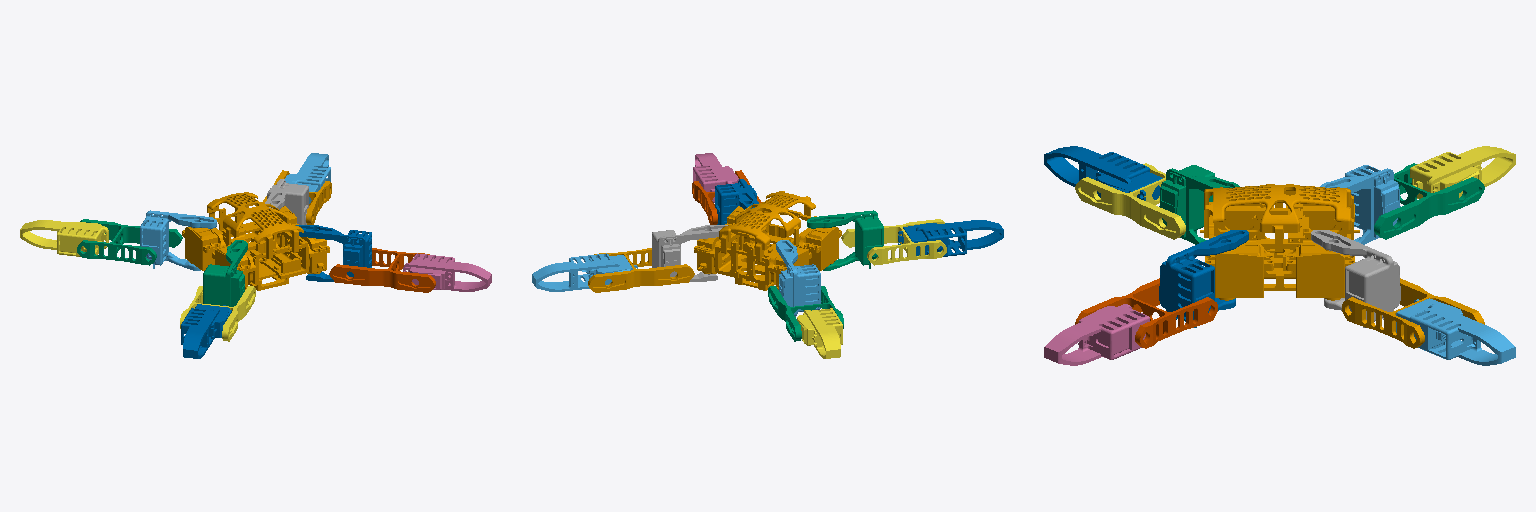
URDF robot description (facehugger):
<?xml version="1.0" ?>
<robot name="facehugger">

  <!-- BASE LINK -->
  <link name="base_link">
    <inertial>
      <origin xyz="0.000319 0.002511 0.017386" rpy="0 0 0"/>
      <mass value="1.170749"/>
      <inertia ixx="0.001382809" ixy="2.0348e-05" ixz="-3.012e-06" iyy="0.000860571" iyz="-2.5609e-05" izz="0.00122863"/>
    </inertial>
    <visual>
      <origin xyz="0 0 0" rpy="0.000000 0.000000 0.000000"/>
      <geometry>
        <mesh filename="exported_meshes/QuadrupedBody.stl" scale="0.001 0.001 0.001"/>
      </geometry>
    </visual>
    <visual>
      <origin xyz="-0.034000 0.046000 0.026000" rpy="0.000000 0.000000 0.000000"/>
      <geometry>
        <mesh filename="exported_meshes/leg_mount_L.stl" scale="0.001 0.001 0.001"/>
      </geometry>
    </visual>
    <visual>
      <origin xyz="-0.050401 0.043222 0.036844" rpy="0.000000 0.000000 0.000000"/>
      <geometry>
        <mesh filename="exported_meshes/servo.stl" scale="0.001 0.001 0.001"/>
      </geometry>
    </visual>
    <visual>
      <origin xyz="0.034000 -0.046000 0.026000" rpy="0.000000 0.000000 3.141593"/>
      <geometry>
        <mesh filename="exported_meshes/leg_mount_L.stl" scale="0.001 0.001 0.001"/>
      </geometry>
    </visual>
    <visual>
      <origin xyz="0.050401 -0.043222 0.036844" rpy="0.000000 0.000000 3.141593"/>
      <geometry>
        <mesh filename="exported_meshes/servo.stl" scale="0.001 0.001 0.001"/>
      </geometry>
    </visual>
    <visual>
      <origin xyz="0.034000 0.046000 0.026000" rpy="0.000000 0.000000 0.000000"/>
      <geometry>
        <mesh filename="exported_meshes/leg_mount_R.stl" scale="0.001 0.001 0.001"/>
      </geometry>
    </visual>
    <visual>
      <origin xyz="0.050401 0.043222 0.036844" rpy="0.000000 0.000000 0.000000"/>
      <geometry>
        <mesh filename="exported_meshes/servo.stl" scale="0.001 0.001 0.001"/>
      </geometry>
    </visual>
    <visual>
      <origin xyz="-0.034000 -0.046000 0.026000" rpy="0.000000 0.000000 3.141593"/>
      <geometry>
        <mesh filename="exported_meshes/leg_mount_R.stl" scale="0.001 0.001 0.001"/>
      </geometry>
    </visual>
    <visual>
      <origin xyz="-0.050401 -0.043222 0.036844" rpy="0.000000 0.000000 3.141593"/>
      <geometry>
        <mesh filename="exported_meshes/servo.stl" scale="0.001 0.001 0.001"/>
      </geometry>
    </visual>
    <collision>
      <origin xyz="0 0 0" rpy="0.000000 0.000000 0.000000"/>
      <geometry>
        <mesh filename="exported_meshes/QuadrupedBody.stl" scale="0.001 0.001 0.001"/>
      </geometry>
    </collision>
  </link>

  <!-- LEG ASSEMBLY METADATA (mm, leg-assembly-local frame)
         BodyToLink1Point : 0.000 11.970 41.844
         Link1ToLink2Point: -46.920 34.365 10.246
         Link2ToLink3Point: -121.620 34.570 10.246
         FootTip (Link3TipPoint construction point, in link3 frame): -78.220 -20.510 0.000 -->

  <!-- LEG: FL  (side=L, shoulder_rest=-45.0°, limits=[-52.0°, +90.0°]) -->
  <joint name="fl_link1_joint" type="revolute">
    <parent link="base_link"/>
    <child link="fl_link1"/>
    <origin xyz="-0.050401 0.043222 0.036844" rpy="0 0 -0.785398"/>
    <axis xyz="0.0 0.0 1.0"/>
    <limit lower="-0.907571" upper="1.570796" effort="2.94" velocity="5.0"/>
  </joint>
  <joint name="fl_link2_joint" type="revolute">
    <parent link="fl_link1"/>
    <child link="fl_link2"/>
    <origin xyz="-0.046920 0.022395 -0.031598" rpy="0 0 0.0"/>
    <axis xyz="0.0 1.0 0.0"/>
    <limit lower="-1.308997" upper="1.308997" effort="2.94" velocity="5.0"/>
  </joint>
  <joint name="fl_link3_joint" type="revolute">
    <parent link="fl_link2"/>
    <child link="fl_link3"/>
    <origin xyz="-0.074700 0.000205 0.000000" rpy="0 0 0.0"/>
    <axis xyz="0.0 1.0 0.0"/>
    <limit lower="-1.570796" upper="1.570796" effort="2.94" velocity="5.0"/>
  </joint>
  <link name="fl_link1">
    <inertial>
      <origin xyz="0.042705 -0.015218 -0.030496" rpy="0 0 0"/>
      <mass value="0.192968"/>
      <inertia ixx="0.00045217555780546" ixy="-5.128594543883256e-05" ixz="-0.00016381619004803114" iyy="0.0004139746460299581" iyz="-9.917950919420754e-05" izz="0.0003566396622446996"/>
    </inertial>
    <visual>
      <origin xyz="0 0 0" rpy="0.000000 0.000000 0.000000"/>
      <geometry>
        <mesh filename="exported_meshes/leg_shoulder_L.stl" scale="0.001 0.001 0.001"/>
      </geometry>
    </visual>
    <visual>
      <origin xyz="-0.046920 0.022394 -0.031598" rpy="-1.570796 0.000000 0.000000"/>
      <geometry>
        <mesh filename="exported_meshes/servo.stl" scale="0.001 0.001 0.001"/>
      </geometry>
    </visual>
    <collision>
      <origin xyz="-0.023460 0.011198 -0.015799" rpy="0.000000 0.546109 2.696268"/>
      <geometry>
        <box size="0.060840 0.015000 0.015000"/>
      </geometry>
    </collision>
  </link>
  <link name="fl_link2">
    <inertial>
      <origin xyz="0.117869 0.018736 0.005004" rpy="0 0 0"/>
      <mass value="0.149366"/>
      <inertia ixx="0.001224445" ixy="-0.000259539" ixz="-3.1438e-05" iyy="0.000166081" iyz="-0.000129141" izz="0.00134872"/>
    </inertial>
    <visual>
      <origin xyz="0 0 0" rpy="0.000000 0.000000 0.000000"/>
      <geometry>
        <mesh filename="exported_meshes/leg_upper.stl" scale="0.001 0.001 0.001"/>
      </geometry>
    </visual>
    <collision>
      <origin xyz="-0.037350 0.000103 0.000000" rpy="0.000000 -0.000000 3.138848"/>
      <geometry>
        <box size="0.074700 0.015000 0.015000"/>
      </geometry>
    </collision>
  </link>
  <link name="fl_link3">
    <inertial>
      <origin xyz="0.177798 0.035157 0.001715" rpy="0 0 0"/>
      <mass value="0.187150"/>
      <inertia ixx="0.0038416892085335825" ixy="-0.00022181937533894737" ixz="-1.4629438627849318e-05" iyy="5.3236720567592854e-05" iyz="-0.0002559532641094737" izz="0.0038352540580719047"/>
    </inertial>
    <visual>
      <origin xyz="0 0 0" rpy="0.000000 0.000000 0.000000"/>
      <geometry>
        <mesh filename="exported_meshes/leg_lower.stl" scale="0.001 0.001 0.001"/>
      </geometry>
    </visual>
    <visual>
      <origin xyz="0.000000 -0.000206 0.000000" rpy="0.000000 -1.570796 -1.570796"/>
      <geometry>
        <mesh filename="exported_meshes/servo.stl" scale="0.001 0.001 0.001"/>
      </geometry>
    </visual>
    <collision>
      <origin xyz="-0.078220 -0.020510 0.000000" rpy="1.570800 0.000000 0.000000"/>
      <geometry>
        <capsule radius="0.005" length="0.005"/>
      </geometry>
    </collision>
  </link>

  <!-- LEG: BR  (side=L, shoulder_rest=+135.0°, limits=[-90.0°, +52.0°]) -->
  <joint name="br_link1_joint" type="revolute">
    <parent link="base_link"/>
    <child link="br_link1"/>
    <origin xyz="0.050401 -0.043222 0.036844" rpy="0 0 2.356194"/>
    <axis xyz="0.0 0.0 1.0"/>
    <limit lower="-1.570796" upper="0.907571" effort="2.94" velocity="5.0"/>
  </joint>
  <joint name="br_link2_joint" type="revolute">
    <parent link="br_link1"/>
    <child link="br_link2"/>
    <origin xyz="-0.046920 0.022395 -0.031598" rpy="0 0 0.0"/>
    <axis xyz="0.0 1.0 0.0"/>
    <limit lower="-1.308997" upper="1.308997" effort="2.94" velocity="5.0"/>
  </joint>
  <joint name="br_link3_joint" type="revolute">
    <parent link="br_link2"/>
    <child link="br_link3"/>
    <origin xyz="-0.074700 0.000205 0.000000" rpy="0 0 0.0"/>
    <axis xyz="0.0 1.0 0.0"/>
    <limit lower="-1.570796" upper="1.570796" effort="2.94" velocity="5.0"/>
  </joint>
  <link name="br_link1">
    <inertial>
      <origin xyz="0.042705 -0.015218 -0.030496" rpy="0 0 0"/>
      <mass value="0.192968"/>
      <inertia ixx="0.00045217555780546" ixy="-5.128594543883256e-05" ixz="-0.00016381619004803114" iyy="0.0004139746460299581" iyz="-9.917950919420754e-05" izz="0.0003566396622446996"/>
    </inertial>
    <visual>
      <origin xyz="0 0 0" rpy="0.000000 0.000000 0.000000"/>
      <geometry>
        <mesh filename="exported_meshes/leg_shoulder_L.stl" scale="0.001 0.001 0.001"/>
      </geometry>
    </visual>
    <visual>
      <origin xyz="-0.046920 0.022394 -0.031598" rpy="-1.570796 0.000000 0.000000"/>
      <geometry>
        <mesh filename="exported_meshes/servo.stl" scale="0.001 0.001 0.001"/>
      </geometry>
    </visual>
    <collision>
      <origin xyz="-0.023460 0.011198 -0.015799" rpy="0.000000 0.546109 2.696268"/>
      <geometry>
        <box size="0.060840 0.015000 0.015000"/>
      </geometry>
    </collision>
  </link>
  <link name="br_link2">
    <inertial>
      <origin xyz="0.117869 0.018736 0.005004" rpy="0 0 0"/>
      <mass value="0.149366"/>
      <inertia ixx="0.001224445" ixy="-0.000259539" ixz="-3.1438e-05" iyy="0.000166081" iyz="-0.000129141" izz="0.00134872"/>
    </inertial>
    <visual>
      <origin xyz="0 0 0" rpy="0.000000 0.000000 0.000000"/>
      <geometry>
        <mesh filename="exported_meshes/leg_upper.stl" scale="0.001 0.001 0.001"/>
      </geometry>
    </visual>
    <collision>
      <origin xyz="-0.037350 0.000103 0.000000" rpy="0.000000 -0.000000 3.138848"/>
      <geometry>
        <box size="0.074700 0.015000 0.015000"/>
      </geometry>
    </collision>
  </link>
  <link name="br_link3">
    <inertial>
      <origin xyz="0.177798 0.035157 0.001715" rpy="0 0 0"/>
      <mass value="0.187150"/>
      <inertia ixx="0.0038416892085335825" ixy="-0.00022181937533894737" ixz="-1.4629438627849318e-05" iyy="5.3236720567592854e-05" iyz="-0.0002559532641094737" izz="0.0038352540580719047"/>
    </inertial>
    <visual>
      <origin xyz="0 0 0" rpy="0.000000 0.000000 0.000000"/>
      <geometry>
        <mesh filename="exported_meshes/leg_lower.stl" scale="0.001 0.001 0.001"/>
      </geometry>
    </visual>
    <visual>
      <origin xyz="0.000000 -0.000206 0.000000" rpy="0.000000 -1.570796 -1.570796"/>
      <geometry>
        <mesh filename="exported_meshes/servo.stl" scale="0.001 0.001 0.001"/>
      </geometry>
    </visual>
    <collision>
      <origin xyz="-0.078220 -0.020510 0.000000" rpy="1.570800 0.000000 0.000000"/>
      <geometry>
        <capsule radius="0.005" length="0.005"/>
      </geometry>
    </collision>
  </link>

  <!-- LEG: FR  (side=R, shoulder_rest=+45.0°, limits=[-90.0°, +52.0°]) -->
  <joint name="fr_link1_joint" type="revolute">
    <parent link="base_link"/>
    <child link="fr_link1"/>
    <origin xyz="0.050401 0.043222 0.036844" rpy="0 0 0.785398"/>
    <axis xyz="0.0 0.0 1.0"/>
    <limit lower="-1.570796" upper="0.907571" effort="2.94" velocity="5.0"/>
  </joint>
  <joint name="fr_link2_joint" type="revolute">
    <parent link="fr_link1"/>
    <child link="fr_link2"/>
    <origin xyz="0.046920 0.022395 -0.031598" rpy="0 0 0.0"/>
    <axis xyz="0.0 -1.0 0.0"/>
    <limit lower="-1.308997" upper="1.308997" effort="2.94" velocity="5.0"/>
  </joint>
  <joint name="fr_link3_joint" type="revolute">
    <parent link="fr_link2"/>
    <child link="fr_link3"/>
    <origin xyz="0.074700 0.000205 0.000000" rpy="0 0 0.0"/>
    <axis xyz="0.0 -1.0 0.0"/>
    <limit lower="-1.570796" upper="1.570796" effort="2.94" velocity="5.0"/>
  </joint>
  <link name="fr_link1">
    <inertial>
      <origin xyz="0.070197 -0.059946 -0.028938" rpy="0 0 0"/>
      <mass value="0.209876"/>
      <inertia ixx="0.0006375510867580152" ixy="-5.659290248604624e-05" ixz="5.557935734465646e-05" iyy="0.00036255282340824104" iyz="0.00023085377312549276" izz="0.0004497437490968804"/>
    </inertial>
    <visual>
      <origin xyz="0 0 0" rpy="0.000000 0.000000 0.000000"/>
      <geometry>
        <mesh filename="exported_meshes/leg_shoulder_R.stl" scale="0.001 0.001 0.001"/>
      </geometry>
    </visual>
    <visual>
      <origin xyz="0.046920 0.022394 -0.031598" rpy="-1.570796 0.000000 0.000000"/>
      <geometry>
        <mesh filename="exported_meshes/servo.stl" scale="0.001 0.001 0.001"/>
      </geometry>
    </visual>
    <collision>
      <origin xyz="0.023460 0.011198 -0.015799" rpy="0.000000 0.546109 0.445325"/>
      <geometry>
        <box size="0.060840 0.015000 0.015000"/>
      </geometry>
    </collision>
  </link>
  <link name="fr_link2">
    <inertial>
      <origin xyz="-0.117869 0.018736 -0.005004" rpy="0 0 0"/>
      <mass value="0.149366"/>
      <inertia ixx="0.001224445" ixy="-0.000259539" ixz="-3.1438e-05" iyy="0.000166081" iyz="-0.000129141" izz="0.00134872"/>
    </inertial>
    <visual>
      <origin xyz="0 0 0" rpy="0.000000 3.141593 0.000000"/>
      <geometry>
        <mesh filename="exported_meshes/leg_upper.stl" scale="0.001 0.001 0.001"/>
      </geometry>
    </visual>
    <collision>
      <origin xyz="0.037350 0.000103 0.000000" rpy="0.000000 -0.000000 0.002744"/>
      <geometry>
        <box size="0.074700 0.015000 0.015000"/>
      </geometry>
    </collision>
  </link>
  <link name="fr_link3">
    <inertial>
      <origin xyz="-0.177798 0.035157 -0.001715" rpy="0 0 0"/>
      <mass value="0.187150"/>
      <inertia ixx="0.0038416892085335825" ixy="-0.00022181937533894737" ixz="-1.4629438627849318e-05" iyy="5.3236720567592854e-05" iyz="-0.0002559532641094737" izz="0.0038352540580719047"/>
    </inertial>
    <visual>
      <origin xyz="0 0 0" rpy="0.000000 3.141593 0.000000"/>
      <geometry>
        <mesh filename="exported_meshes/leg_lower.stl" scale="0.001 0.001 0.001"/>
      </geometry>
    </visual>
    <visual>
      <origin xyz="-0.000000 -0.000206 0.000000" rpy="0.000000 -1.570796 -1.570796"/>
      <geometry>
        <mesh filename="exported_meshes/servo.stl" scale="0.001 0.001 0.001"/>
      </geometry>
    </visual>
    <collision>
      <origin xyz="0.078220 -0.020510 -0.000000" rpy="1.570800 0.000000 0.000000"/>
      <geometry>
        <capsule radius="0.005" length="0.005"/>
      </geometry>
    </collision>
  </link>

  <!-- LEG: BL  (side=R, shoulder_rest=-135.0°, limits=[-52.0°, +90.0°]) -->
  <joint name="bl_link1_joint" type="revolute">
    <parent link="base_link"/>
    <child link="bl_link1"/>
    <origin xyz="-0.050401 -0.043222 0.036844" rpy="0 0 -2.356194"/>
    <axis xyz="0.0 0.0 1.0"/>
    <limit lower="-0.907571" upper="1.570796" effort="2.94" velocity="5.0"/>
  </joint>
  <joint name="bl_link2_joint" type="revolute">
    <parent link="bl_link1"/>
    <child link="bl_link2"/>
    <origin xyz="0.046920 0.022395 -0.031598" rpy="0 0 0.0"/>
    <axis xyz="0.0 -1.0 0.0"/>
    <limit lower="-1.308997" upper="1.308997" effort="2.94" velocity="5.0"/>
  </joint>
  <joint name="bl_link3_joint" type="revolute">
    <parent link="bl_link2"/>
    <child link="bl_link3"/>
    <origin xyz="0.074700 0.000205 0.000000" rpy="0 0 0.0"/>
    <axis xyz="0.0 -1.0 0.0"/>
    <limit lower="-1.570796" upper="1.570796" effort="2.94" velocity="5.0"/>
  </joint>
  <link name="bl_link1">
    <inertial>
      <origin xyz="0.070197 -0.059946 -0.028938" rpy="0 0 0"/>
      <mass value="0.209876"/>
      <inertia ixx="0.0006375510867580152" ixy="-5.659290248604624e-05" ixz="5.557935734465646e-05" iyy="0.00036255282340824104" iyz="0.00023085377312549276" izz="0.0004497437490968804"/>
    </inertial>
    <visual>
      <origin xyz="0 0 0" rpy="0.000000 0.000000 0.000000"/>
      <geometry>
        <mesh filename="exported_meshes/leg_shoulder_R.stl" scale="0.001 0.001 0.001"/>
      </geometry>
    </visual>
    <visual>
      <origin xyz="0.046920 0.022394 -0.031598" rpy="-1.570796 0.000000 0.000000"/>
      <geometry>
        <mesh filename="exported_meshes/servo.stl" scale="0.001 0.001 0.001"/>
      </geometry>
    </visual>
    <collision>
      <origin xyz="0.023460 0.011198 -0.015799" rpy="0.000000 0.546109 0.445325"/>
      <geometry>
        <box size="0.060840 0.015000 0.015000"/>
      </geometry>
    </collision>
  </link>
  <link name="bl_link2">
    <inertial>
      <origin xyz="-0.117869 0.018736 -0.005004" rpy="0 0 0"/>
      <mass value="0.149366"/>
      <inertia ixx="0.001224445" ixy="-0.000259539" ixz="-3.1438e-05" iyy="0.000166081" iyz="-0.000129141" izz="0.00134872"/>
    </inertial>
    <visual>
      <origin xyz="0 0 0" rpy="0.000000 3.141593 0.000000"/>
      <geometry>
        <mesh filename="exported_meshes/leg_upper.stl" scale="0.001 0.001 0.001"/>
      </geometry>
    </visual>
    <collision>
      <origin xyz="0.037350 0.000103 0.000000" rpy="0.000000 -0.000000 0.002744"/>
      <geometry>
        <box size="0.074700 0.015000 0.015000"/>
      </geometry>
    </collision>
  </link>
  <link name="bl_link3">
    <inertial>
      <origin xyz="-0.177798 0.035157 -0.001715" rpy="0 0 0"/>
      <mass value="0.187150"/>
      <inertia ixx="0.0038416892085335825" ixy="-0.00022181937533894737" ixz="-1.4629438627849318e-05" iyy="5.3236720567592854e-05" iyz="-0.0002559532641094737" izz="0.0038352540580719047"/>
    </inertial>
    <visual>
      <origin xyz="0 0 0" rpy="0.000000 3.141593 0.000000"/>
      <geometry>
        <mesh filename="exported_meshes/leg_lower.stl" scale="0.001 0.001 0.001"/>
      </geometry>
    </visual>
    <visual>
      <origin xyz="-0.000000 -0.000206 0.000000" rpy="0.000000 -1.570796 -1.570796"/>
      <geometry>
        <mesh filename="exported_meshes/servo.stl" scale="0.001 0.001 0.001"/>
      </geometry>
    </visual>
    <collision>
      <origin xyz="0.078220 -0.020510 -0.000000" rpy="1.570800 0.000000 0.000000"/>
      <geometry>
        <capsule radius="0.005" length="0.005"/>
      </geometry>
    </collision>
  </link>
</robot>

--- What the picture shows (computed from the rendered views, not written in the file) ---
The picture shows the robot from 3 angles, left to right: view 1: azimuth 30°, elevation 25°; view 2: azimuth 150°, elevation 25°; view 3: azimuth 270°, elevation 25°; orthographic projection.
Model facehugger with 13 links and 12 joints (12 revolute), rooted at base_link, posed all joints at 0.
Visible links, largest first — view 1: base_link, br_link2, fl_link3, fl_link2, fl_link1, br_link3, bl_link1, bl_link3, br_link1, fr_link1, fr_link3, bl_link2 (+1 smaller); view 2: base_link, bl_link3, fr_link2, fr_link3, fl_link1, bl_link1, bl_link2, fl_link3, fr_link1, br_link1, fl_link2, br_link3 (+1 smaller); view 3: base_link, fr_link3, br_link3, fr_link1, br_link1, bl_link3, fl_link2, fl_link3, br_link2, bl_link2, fl_link1, bl_link1 (+1 smaller).
Boxes of the visible links, x1,y1,x2,y2 form: base_link: (182, 192, 329, 290); br_link2: (329, 248, 435, 292); fl_link3: (20, 220, 108, 256); fl_link2: (77, 219, 182, 265); fl_link1: (140, 210, 216, 270); br_link3: (403, 253, 491, 291); bl_link1: (203, 240, 247, 306); bl_link3: (181, 304, 231, 358); br_link1: (296, 225, 371, 281); fr_link1: (265, 179, 308, 224); fr_link3: (285, 153, 330, 203); bl_link2: (180, 286, 255, 341); base_link: (694, 191, 841, 290); bl_link3: (898, 220, 1003, 256); fr_link2: (588, 248, 694, 292); fr_link3: (532, 253, 637, 291); fl_link1: (776, 240, 820, 316); bl_link1: (807, 210, 883, 270); bl_link2: (841, 219, 946, 265); fl_link3: (797, 308, 842, 358); fr_link1: (652, 225, 727, 281); br_link1: (715, 179, 758, 224); fl_link2: (768, 286, 843, 341); br_link3: (693, 153, 738, 202); base_link: (1200, 184, 1359, 300); fr_link3: (1396, 298, 1515, 365); br_link3: (1044, 304, 1149, 365); fr_link1: (1311, 230, 1400, 327); br_link1: (1159, 230, 1248, 327); bl_link3: (1044, 146, 1162, 200); fl_link2: (1374, 163, 1484, 239); fl_link3: (1410, 146, 1515, 198); br_link2: (1075, 278, 1217, 348); bl_link2: (1075, 163, 1185, 239); fl_link1: (1320, 165, 1400, 244); bl_link1: (1159, 165, 1239, 244).
Size in the robot's own frame: 0.3917 by 0.3826 by 0.081 metres.
Meshes: 8 distinct files referenced, 29 mesh visuals loaded (8 binary STL).
